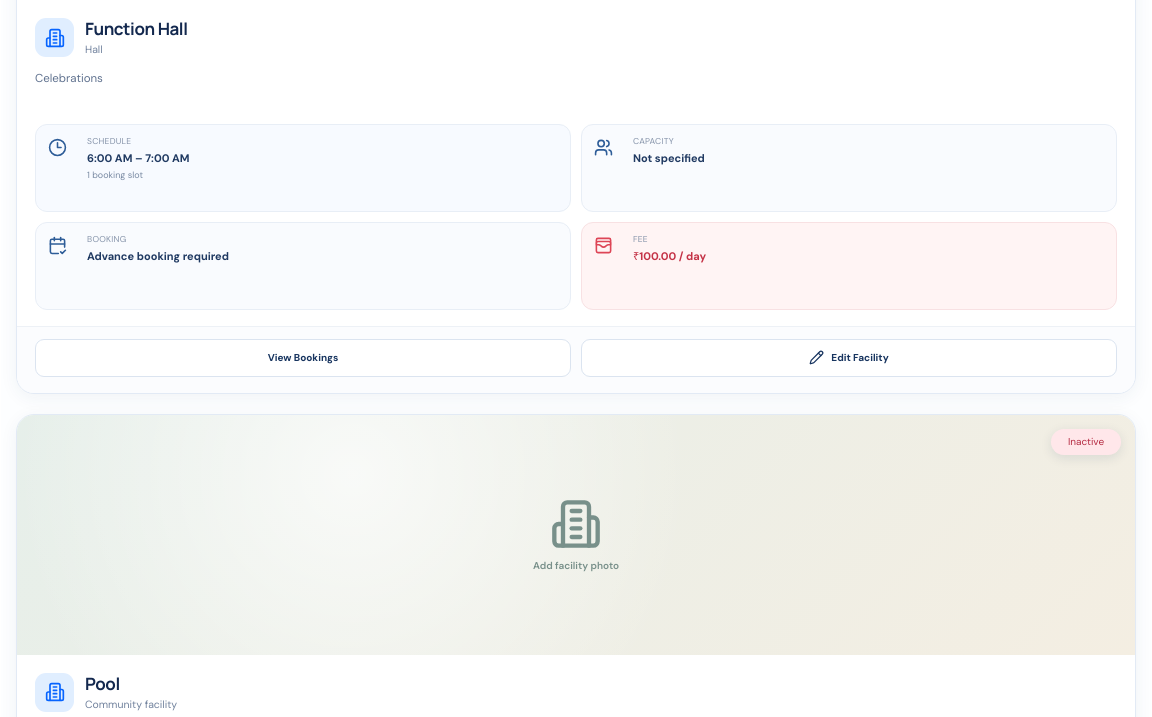
Test: Facilities page › keeps edit errors visible and allows retry
(page scrolled)
Click the button "Edit Facility" at [849, 358], box [581,338,1117,376]
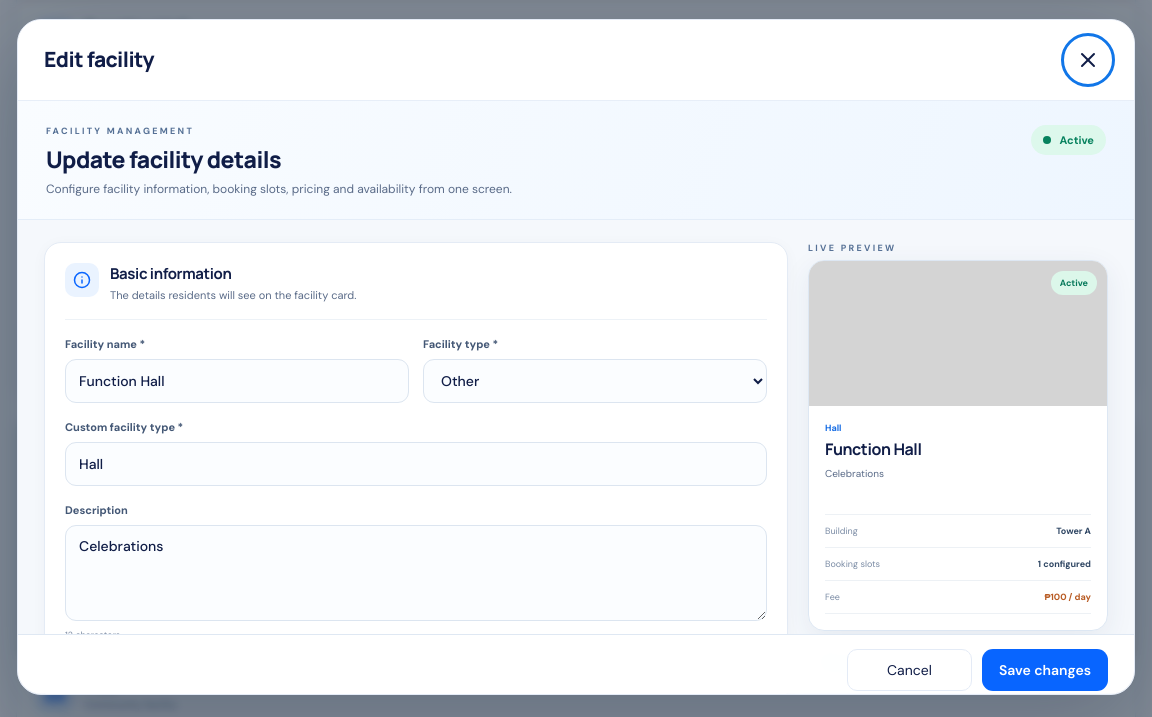
Replace the text in the field labelled "Facility name" with "New hall" at [237, 381], box [65,359,409,403]
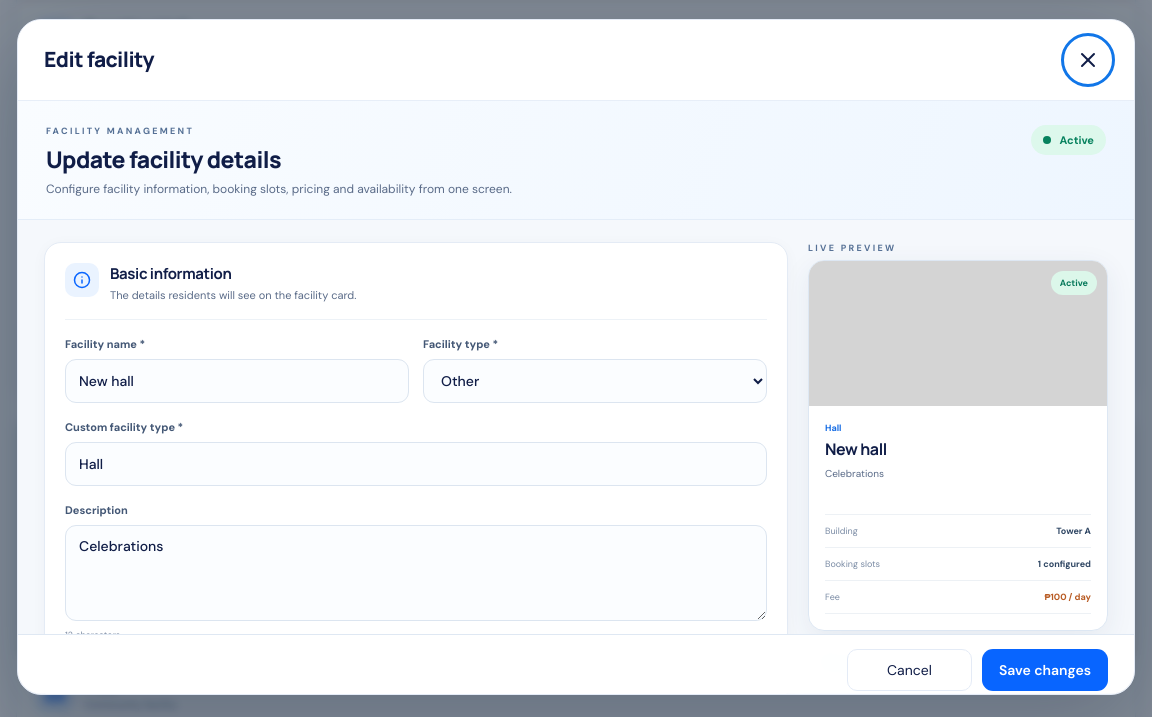
Submit the form named "Facility form"
Expected: the dialog is shown
Submit the form named "Facility form"
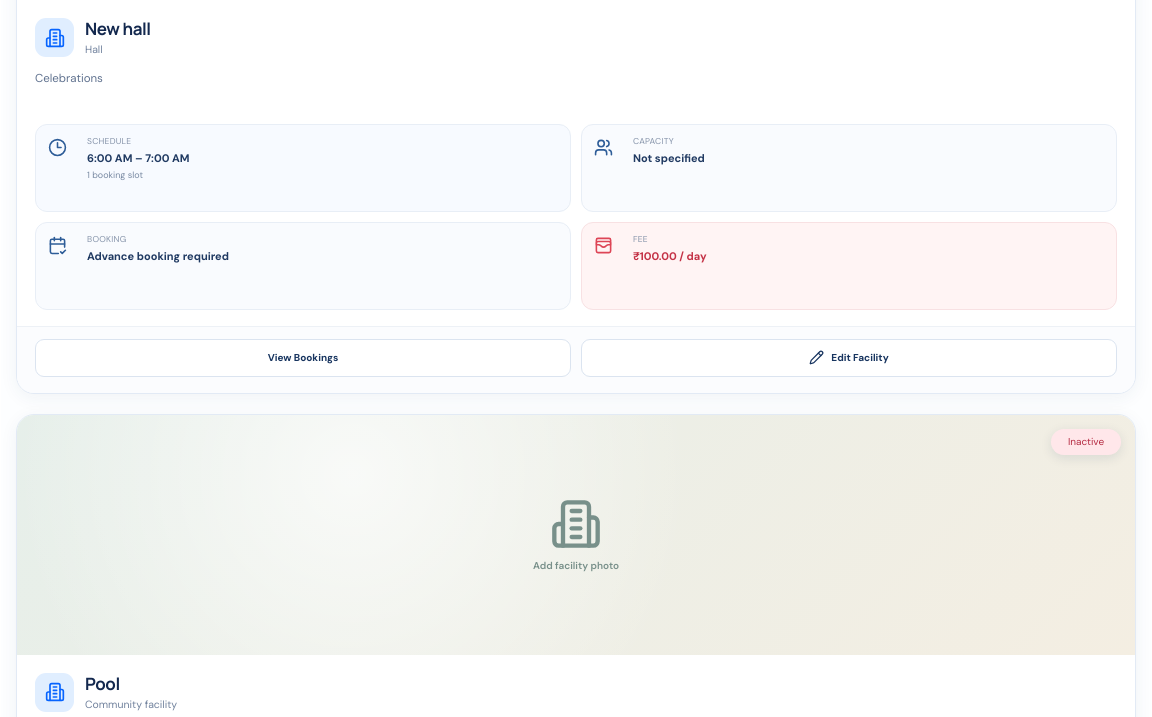
Expected: the dialog is gone
